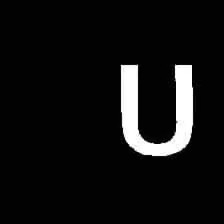LTR_U: (111, 54, 207, 162)
